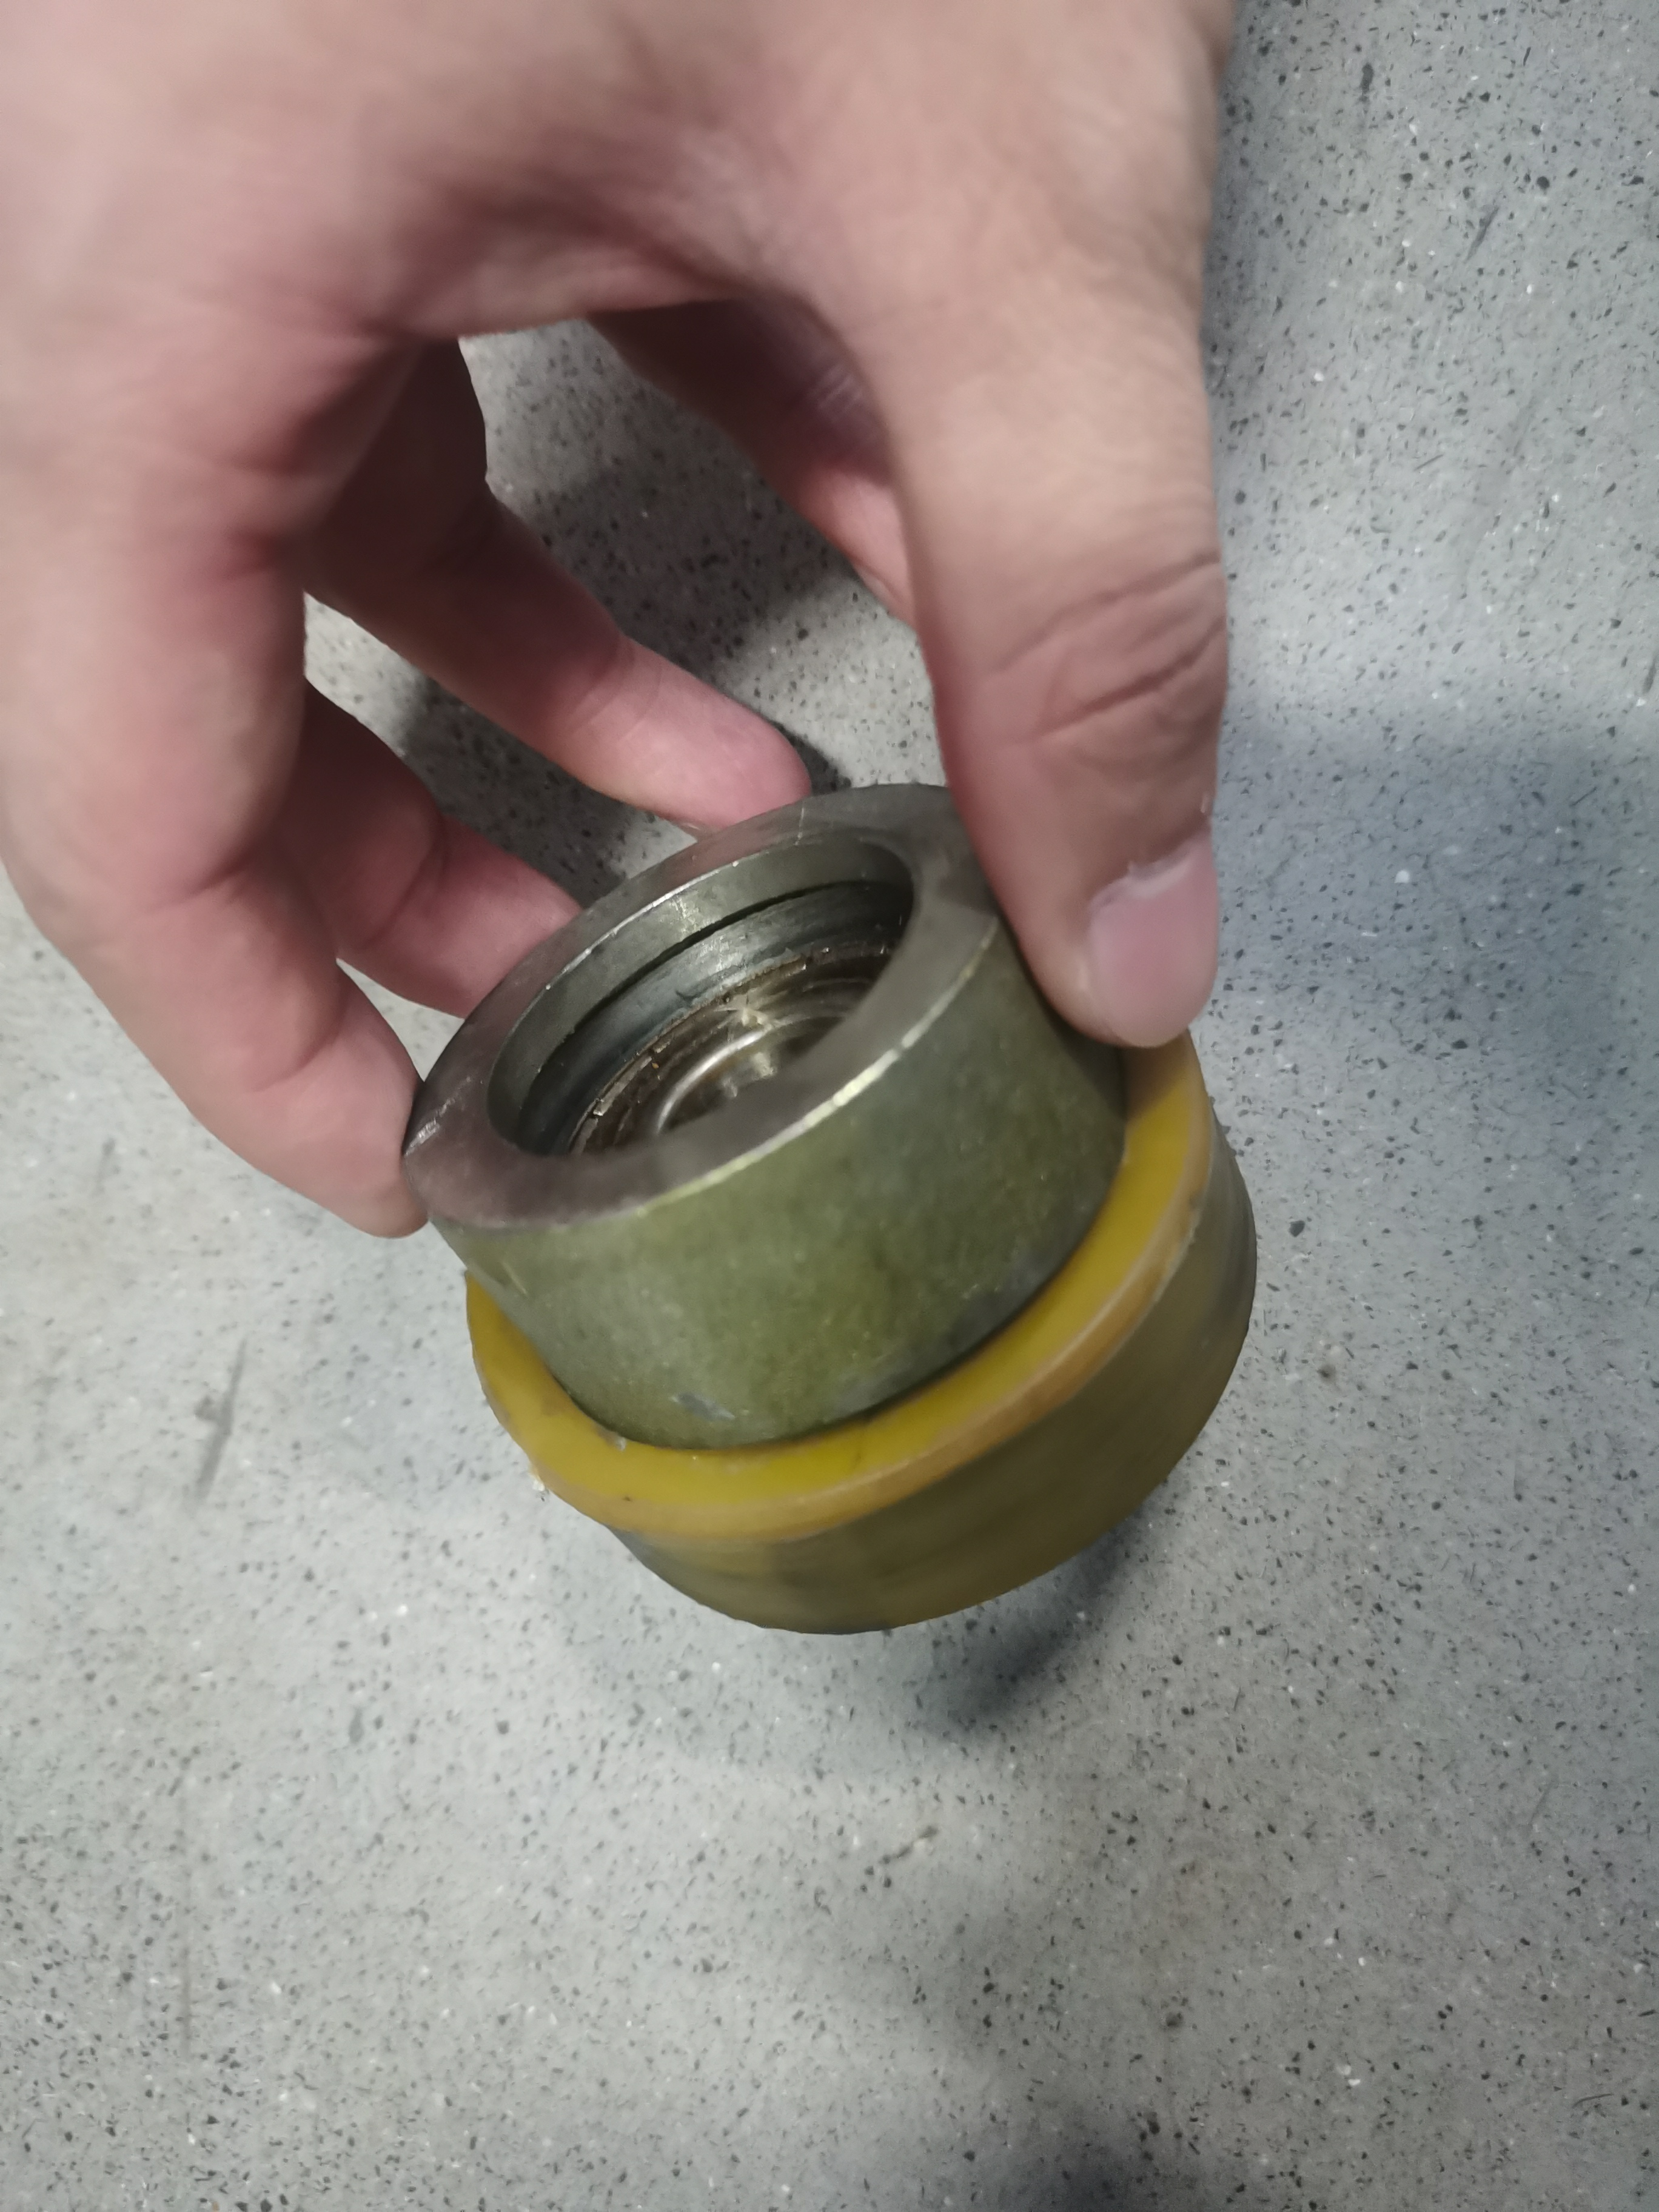bad_wheel: (307, 759, 1326, 1716)
